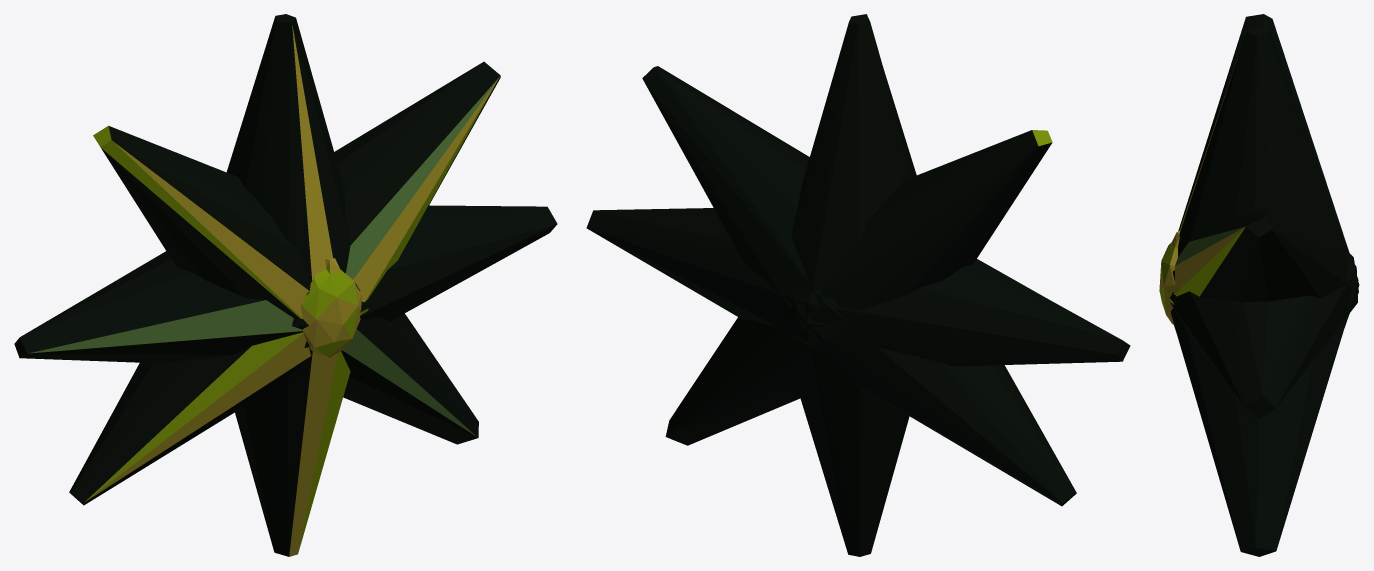
File: inimigosobstaculos.fbx
The picture shows the model from 3 angles, left to right: view 1: azimuth 30°, elevation 25°; view 2: azimuth 150°, elevation 25°; view 3: azimuth 270°, elevation 25°; orthographic projection. The views are drawn at different scales.
Parts seen in each view (by area): view 1: Cylinder; view 2: Cylinder; view 3: Cylinder.
Part boxes in pixels (<box>): Cylinder: <box>14,14,557,556</box>; Cylinder: <box>586,14,1130,556</box>; Cylinder: <box>1159,14,1359,556</box>.
Bounding box in the file's own units: 146 × 140 × 50.32.
